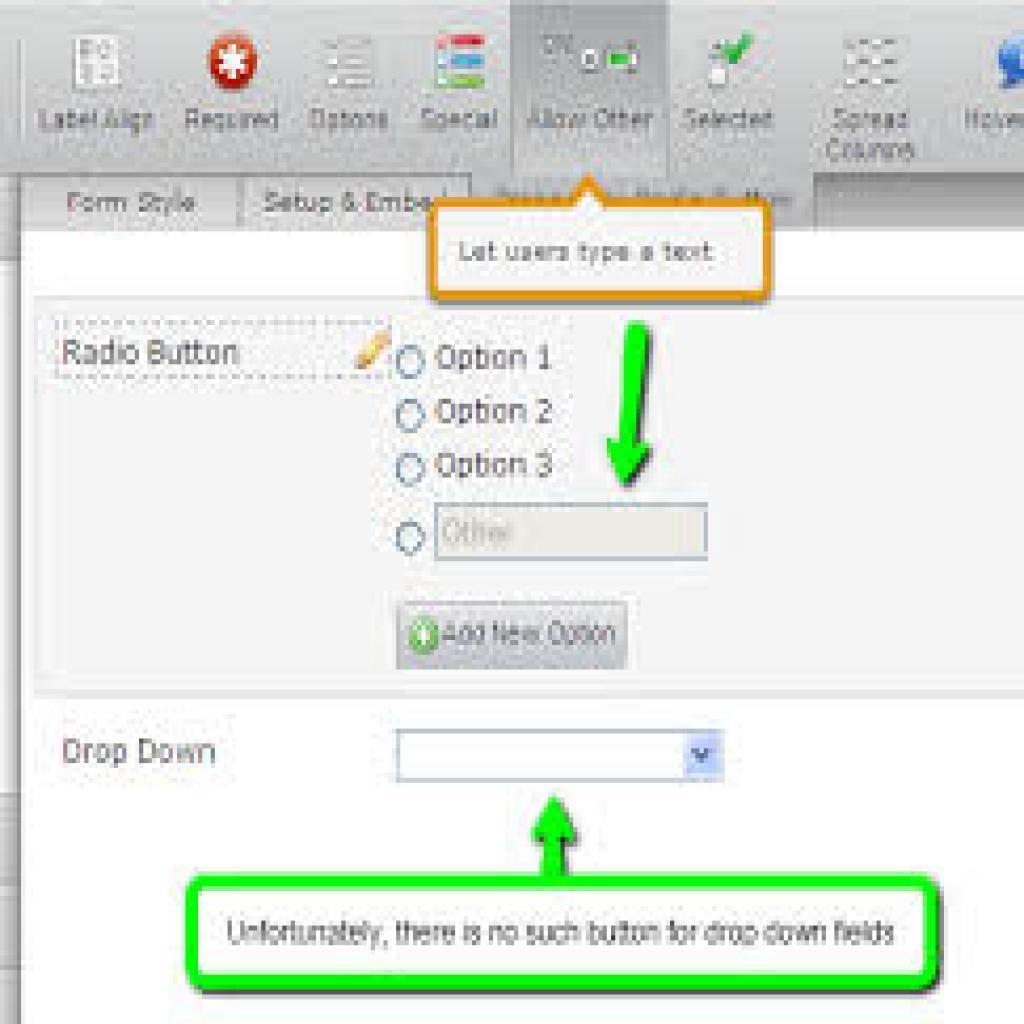button: (392, 602, 629, 674)
dropdown: (393, 729, 723, 780)
icon: (690, 31, 764, 99), (838, 30, 908, 95), (202, 22, 263, 95), (434, 27, 491, 98), (321, 31, 378, 96), (71, 32, 128, 95)
input: (432, 502, 706, 560)
radio: (393, 337, 435, 394), (391, 515, 433, 566), (395, 389, 431, 438), (395, 453, 434, 497)
